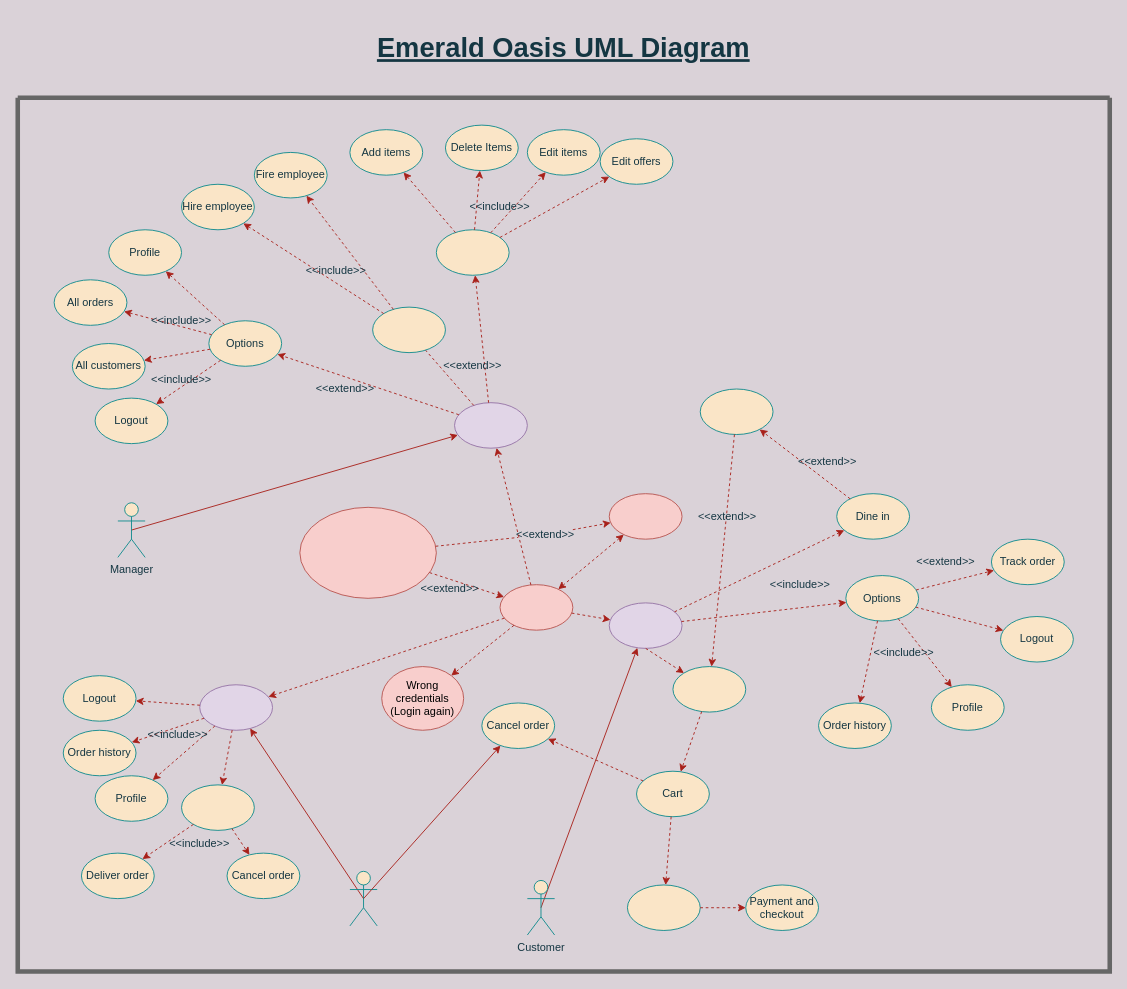
Some shapes in this 1127 by 989 pixel diagram are drawn without their labels. Each missing label, with the centre of its shape:
Confirm order: the point at 663,907
Customer home: the point at 645,625
Delivery person: the point at 363,898
Delivery person home: the point at 236,707
Items and offers: the point at 709,689
Login: the point at 536,607
Manage Employees: the point at 408,329
Manage Items: the point at 472,252
Manager Home: the point at 490,425
Order requests: the point at 217,807
Sign up: the point at 645,516
Take order: the point at 736,411
Welcome: the point at 367,552
